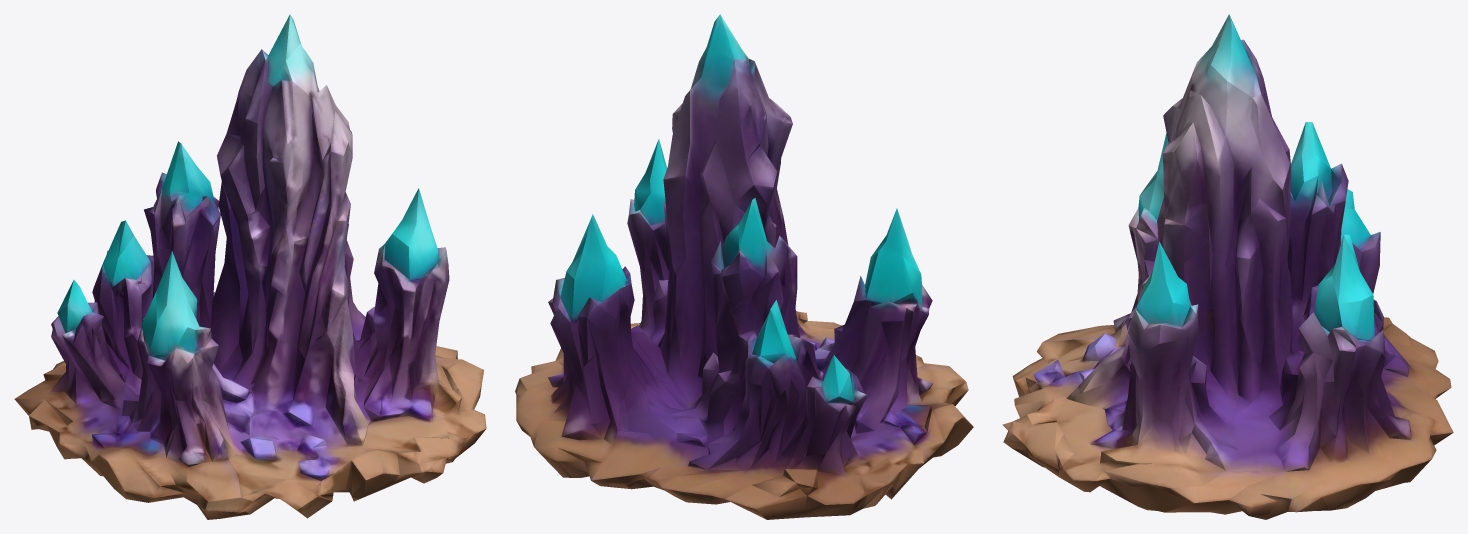
Rendered from m2AlienSpiresBg.glb.
3 views of the same model, side by side, from view 1: azimuth 30°, elevation 25°; view 2: azimuth 150°, elevation 25°; view 3: azimuth 270°, elevation 25° (orthographic). The views are drawn at different scales.
Parts seen in each view (by area): view 1: model; view 2: model; view 3: model.
Part boxes in pixels (x1,y1,x2,y2): model: [14, 14, 486, 519]; model: [515, 14, 973, 519]; model: [1002, 14, 1453, 519].
Size of the model in its own units: 1.89 by 1.93 by 1.8.
Materials: 1 (1 with a texture image).
